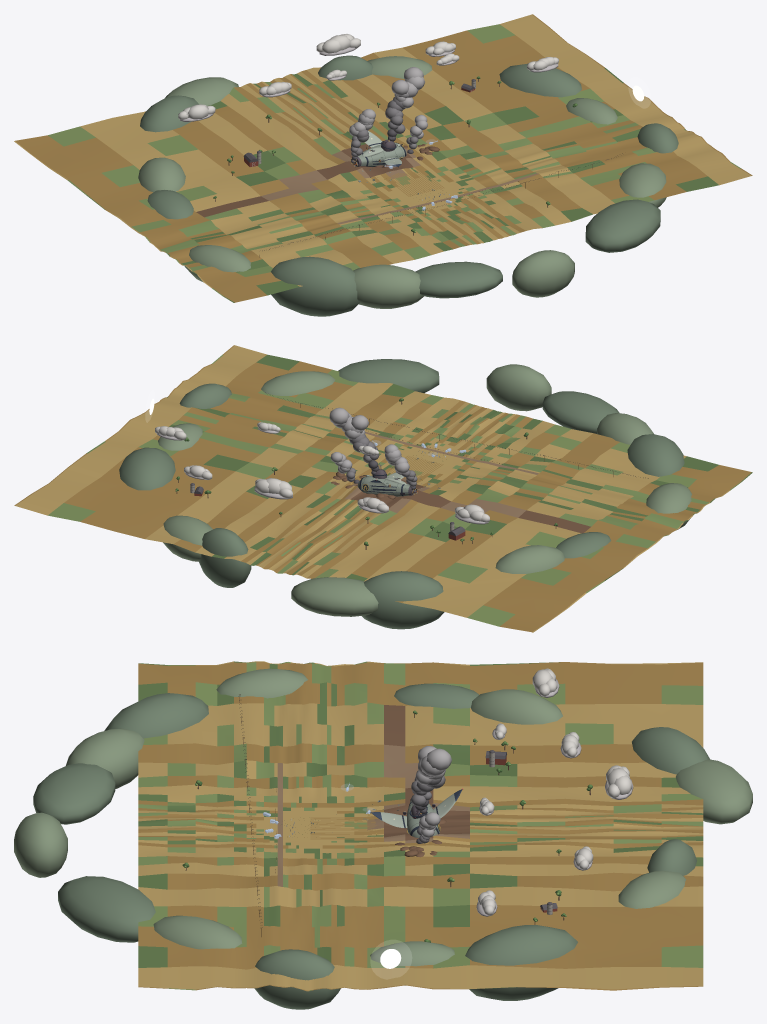
Rendered from interlude_surrender.glb.
The picture shows the model from 3 angles, top to bottom: view 1: azimuth 30°, elevation 25°; view 2: azimuth 150°, elevation 25°; view 3: azimuth 270°, elevation 25°; orthographic projection. The views are drawn at different scales.
Parts seen in each view (by area): view 1: field_vc, land_vc, land_vc_fine, elfinia_flagship_body, SMOKE_bridge_smoke_l, field_vc_fine, SMOKE_bridge_smoke; view 2: field_vc, land_vc, land_vc_fine, elfinia_flagship_body, SMOKE_bridge_smoke_l; view 3: field_vc, land_vc, land_vc_fine, field_vc_fine, elfinia_flagship_body, SMOKE_bridge_smoke_l.
Part boxes in pixels (x1,y1,x2,y2): field_vc: (14,14,752,302); land_vc: (138,55,678,316); land_vc_fine: (178,34,558,166); elfinia_flagship_body: (350,130,406,167); SMOKE_bridge_smoke_l: (391,67,424,108); field_vc_fine: (387,170,444,196); SMOKE_bridge_smoke: (385,97,405,133); field_vc: (14,345,752,632); land_vc: (119,359,691,629); land_vc_fine: (155,422,489,524); elfinia_flagship_body: (351,472,417,496); SMOKE_bridge_smoke_l: (329,407,368,439); field_vc: (138,661,703,991); land_vc: (14,668,752,1009); land_vc_fine: (476,668,633,916); field_vc_fine: (310,817,376,839); elfinia_flagship_body: (371,789,462,843); SMOKE_bridge_smoke_l: (415,746,451,784).
Size of what is drawn, in the model's own units: 640 by 137 by 615.
